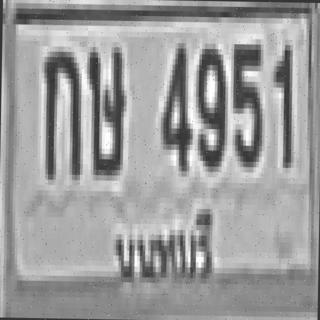A01: (40, 46, 79, 174)
A39: (84, 41, 124, 175)
N01: (269, 42, 290, 165)
N04: (158, 40, 190, 168)
N05: (229, 39, 261, 162)
N09: (193, 43, 225, 166)
P37: (108, 198, 222, 286)
